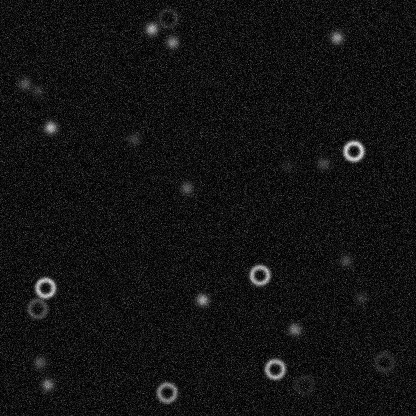Ring: (341, 138, 365, 162), (372, 350, 396, 374), (291, 373, 315, 397), (33, 275, 57, 299), (154, 380, 178, 404), (262, 356, 286, 380), (155, 6, 179, 30), (25, 296, 49, 320), (247, 262, 271, 286)
Spot: (315, 155, 331, 171), (29, 82, 45, 98), (278, 157, 294, 173), (353, 289, 369, 305), (286, 321, 302, 337), (328, 29, 344, 45), (178, 179, 194, 195), (42, 119, 58, 135), (337, 252, 353, 268), (125, 131, 141, 147), (39, 376, 55, 392), (31, 354, 47, 370), (164, 34, 180, 50), (16, 75, 32, 91), (194, 291, 210, 307), (143, 20, 159, 36)
